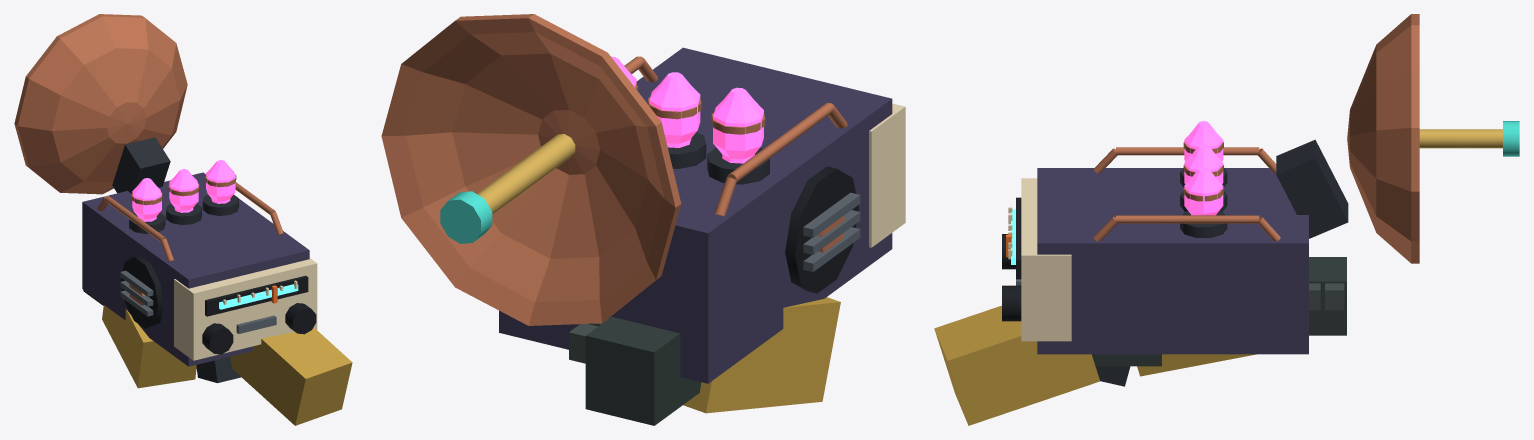
File: disruptor.glb
3 views of the same model, side by side, from view 1: azimuth 30°, elevation 25°; view 2: azimuth 150°, elevation 25°; view 3: azimuth 270°, elevation 25° (orthographic). The views are drawn at different scales.
Visible parts, largest first — view 1: _MeshInstance3D_3788, _MeshInstance3D_3781, _MeshInstance3D_3828, _MeshInstance3D_3784, _MeshInstance3D_3822, _MeshInstance3D_3787, _MeshInstance3D_3782, _MeshInstance3D_3785, _MeshInstance3D_3792, _MeshInstance3D_3793, _MeshInstance3D_3791, _MeshInstance3D_3819 (+10 smaller); view 2: _MeshInstance3D_3788, _MeshInstance3D_3781, _MeshInstance3D_3822, _MeshInstance3D_3821, _MeshInstance3D_3784, _MeshInstance3D_3782, _MeshInstance3D_3789, _MeshInstance3D_3791, _MeshInstance3D_3792, _MeshInstance3D_3790, _MeshInstance3D_3810, _MeshInstance3D_3794 (+5 smaller); view 3: _MeshInstance3D_3781, _MeshInstance3D_3788, _MeshInstance3D_3828, _MeshInstance3D_3784, _MeshInstance3D_3787, _MeshInstance3D_3821, _MeshInstance3D_3789, _MeshInstance3D_3793, _MeshInstance3D_3813, _MeshInstance3D_3822, _MeshInstance3D_3810, _MeshInstance3D_3827 (+7 smaller).
Part boxes in pixels (x1,y1,x2,y2): _MeshInstance3D_3788: (14,14,187,194); _MeshInstance3D_3781: (82,172,309,366); _MeshInstance3D_3828: (230,328,352,425); _MeshInstance3D_3784: (174,258,317,360); _MeshInstance3D_3822: (102,305,196,388); _MeshInstance3D_3787: (112,137,170,193); _MeshInstance3D_3782: (121,255,163,328); _MeshInstance3D_3785: (205,275,308,316); _MeshInstance3D_3792: (169,169,198,212); _MeshInstance3D_3793: (206,160,235,203); _MeshInstance3D_3791: (132,178,161,221); _MeshInstance3D_3819: (196,357,240,383); _MeshInstance3D_3788: (381,14,681,325); _MeshInstance3D_3781: (499,47,892,383); _MeshInstance3D_3822: (683,297,840,413); _MeshInstance3D_3821: (585,317,701,425); _MeshInstance3D_3784: (869,103,905,247); _MeshInstance3D_3782: (785,166,858,293); _MeshInstance3D_3789: (477,134,575,214); _MeshInstance3D_3791: (713,87,763,163); _MeshInstance3D_3792: (649,72,700,147); _MeshInstance3D_3790: (440,191,492,243); _MeshInstance3D_3810: (727,103,833,181); _MeshInstance3D_3794: (707,147,769,184); _MeshInstance3D_3781: (1037,168,1308,354); _MeshInstance3D_3788: (1347,14,1419,263); _MeshInstance3D_3828: (934,305,1099,425); _MeshInstance3D_3784: (1021,178,1071,341); _MeshInstance3D_3787: (1276,139,1348,238); _MeshInstance3D_3821: (1309,257,1346,335); _MeshInstance3D_3789: (1419,129,1502,148); _MeshInstance3D_3793: (1184,167,1223,215); _MeshInstance3D_3813: (1116,215,1259,223); _MeshInstance3D_3822: (1137,354,1256,376); _MeshInstance3D_3810: (1116,147,1259,155); _MeshInstance3D_3827: (1092,354,1161,366).
Size of the model in its own units: 0.18 by 0.2852 by 0.4207.
